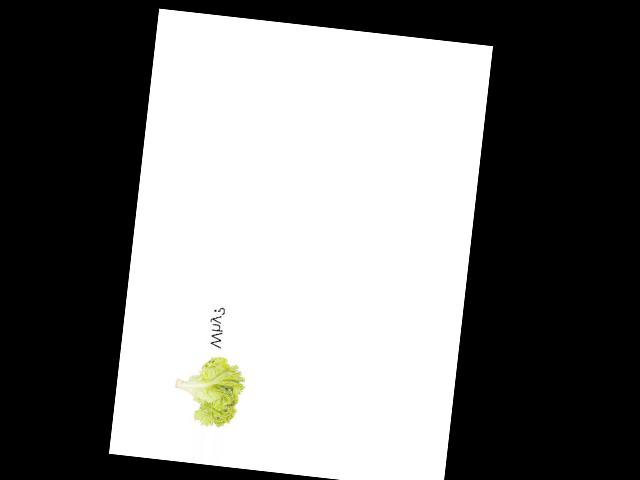lettuce: (165, 311, 258, 433)
